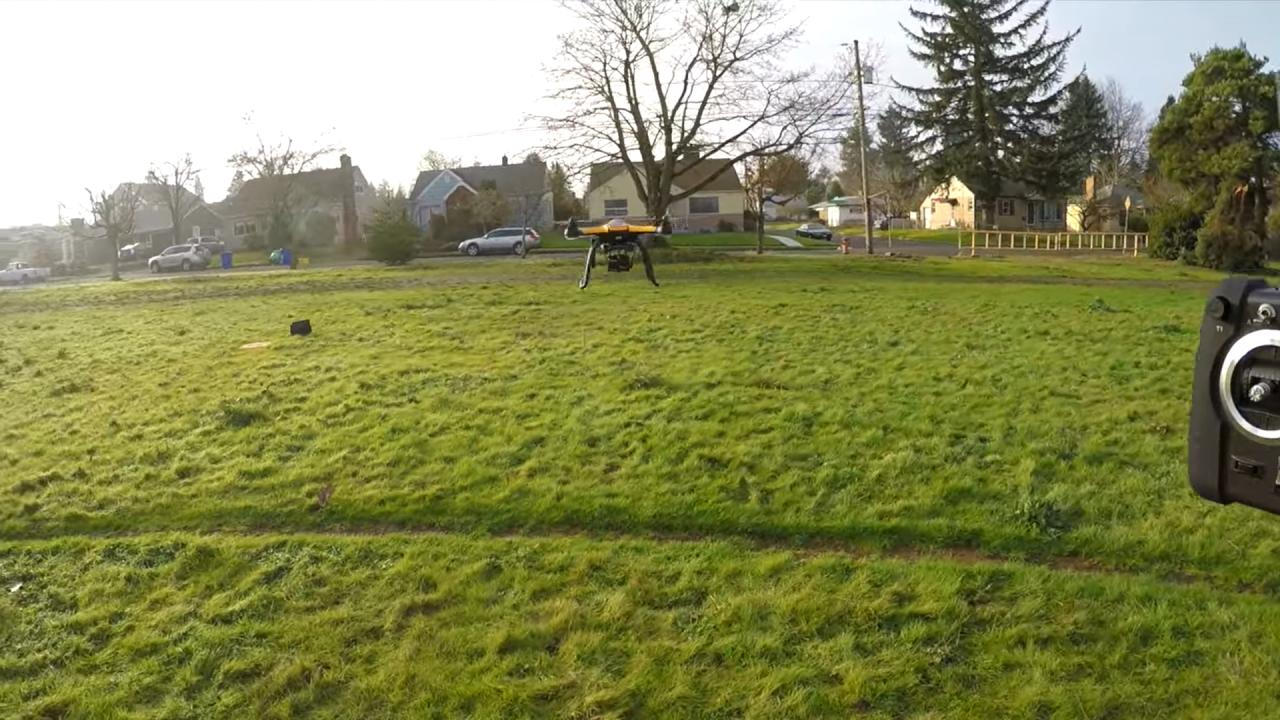Drone: (540, 205, 690, 292)
